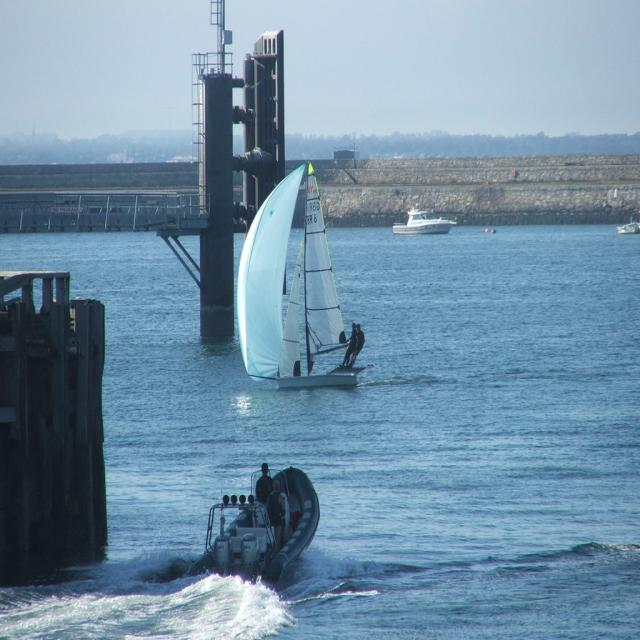Boat: (226, 144, 371, 405), (182, 458, 324, 586), (391, 203, 456, 230), (616, 216, 640, 234)
